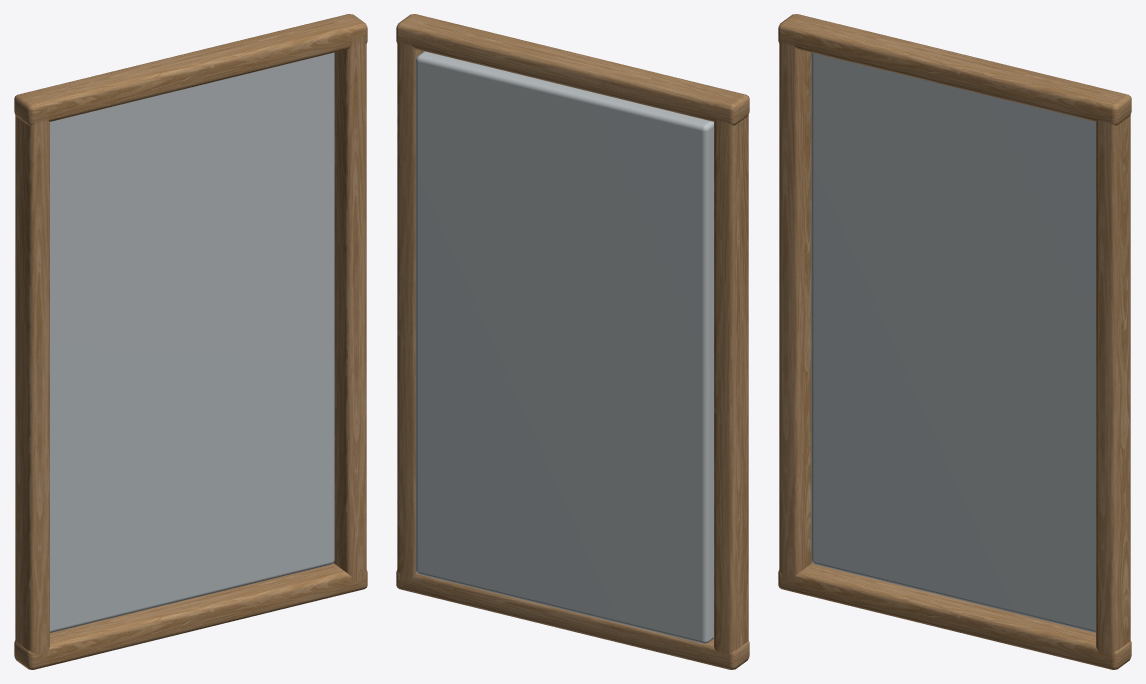
Rendered from bathroom_mirror_silver.glb.
3 views of the same model, side by side, from view 1: azimuth 30°, elevation 25°; view 2: azimuth 150°, elevation 25°; view 3: azimuth 330°, elevation 25° (orthographic).
Parts seen in each view (by area): view 1: mirror plate, frame upright, frame upright.001, frame rail.001, frame rail; view 2: mirror plate, frame upright, frame rail.001, frame upright.001, frame rail; view 3: mirror plate, frame upright.001, frame upright, frame rail.001, frame rail.
Part boxes in pixels (x1,y1,x2,y2): mirror plate: (50, 52, 334, 632); frame upright: (15, 114, 49, 656); frame upright.001: (334, 36, 366, 583); frame rail.001: (14, 14, 367, 125); frame rail: (14, 563, 367, 669); mirror plate: (415, 51, 713, 643); frame upright: (714, 114, 748, 654); frame rail.001: (396, 14, 749, 125); frame upright.001: (397, 36, 423, 583); frame rail: (396, 570, 749, 669); mirror plate: (811, 52, 1095, 632); frame upright.001: (1096, 115, 1130, 654); frame upright: (779, 38, 811, 582); frame rail.001: (778, 14, 1131, 125); frame rail: (778, 563, 1131, 669).
Size of the model in its own units: 0.72 by 1.15 by 0.08.
2 materials, 1 textured.
